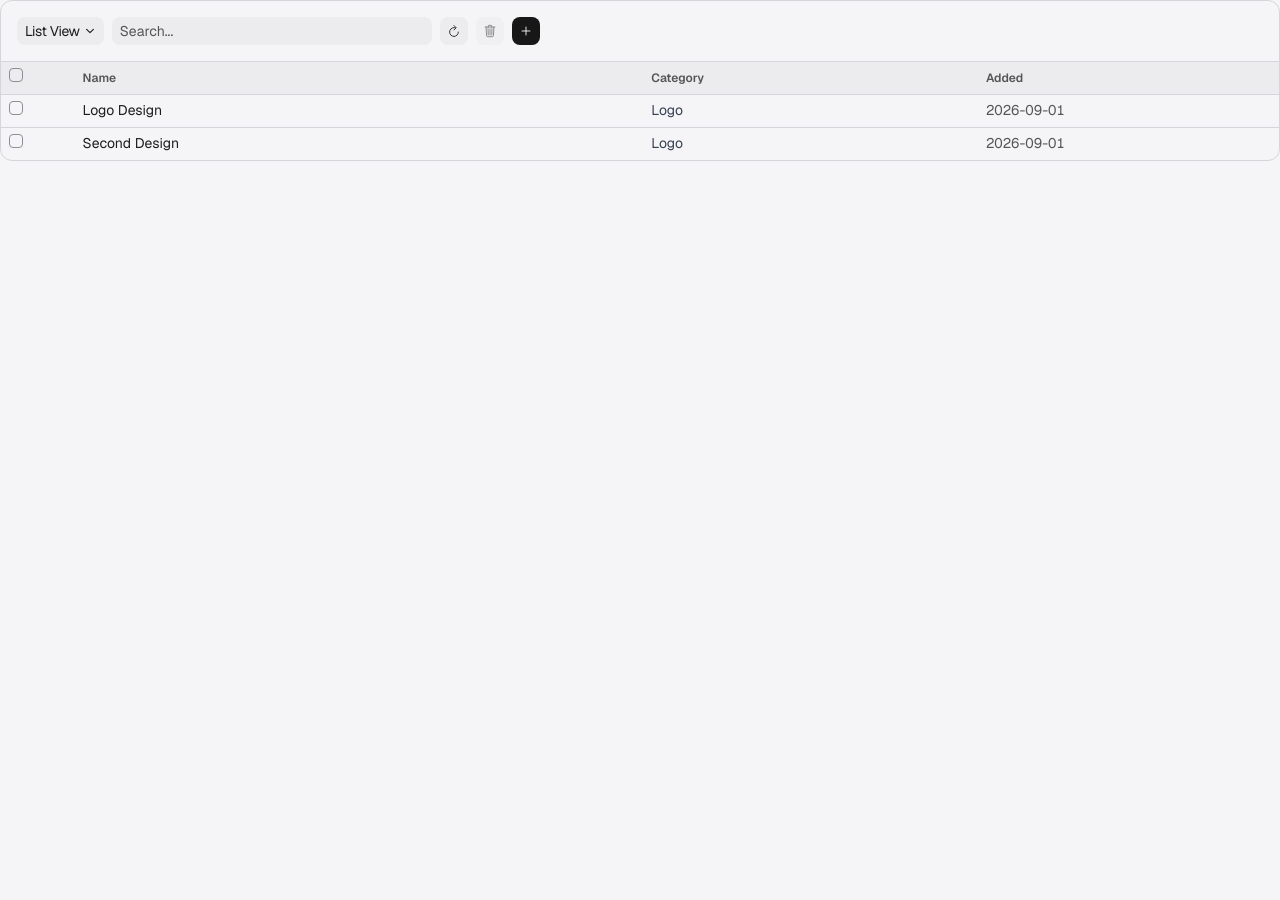
Test case: DesignRepository — deleting ticked designs › deletes each ticked design and closes the dialog
The width and height of the screenshot is (1280, 900).
Step 1. Click the checkbox named "Select Logo Design" → point(16, 108), box [9,101,23,115]
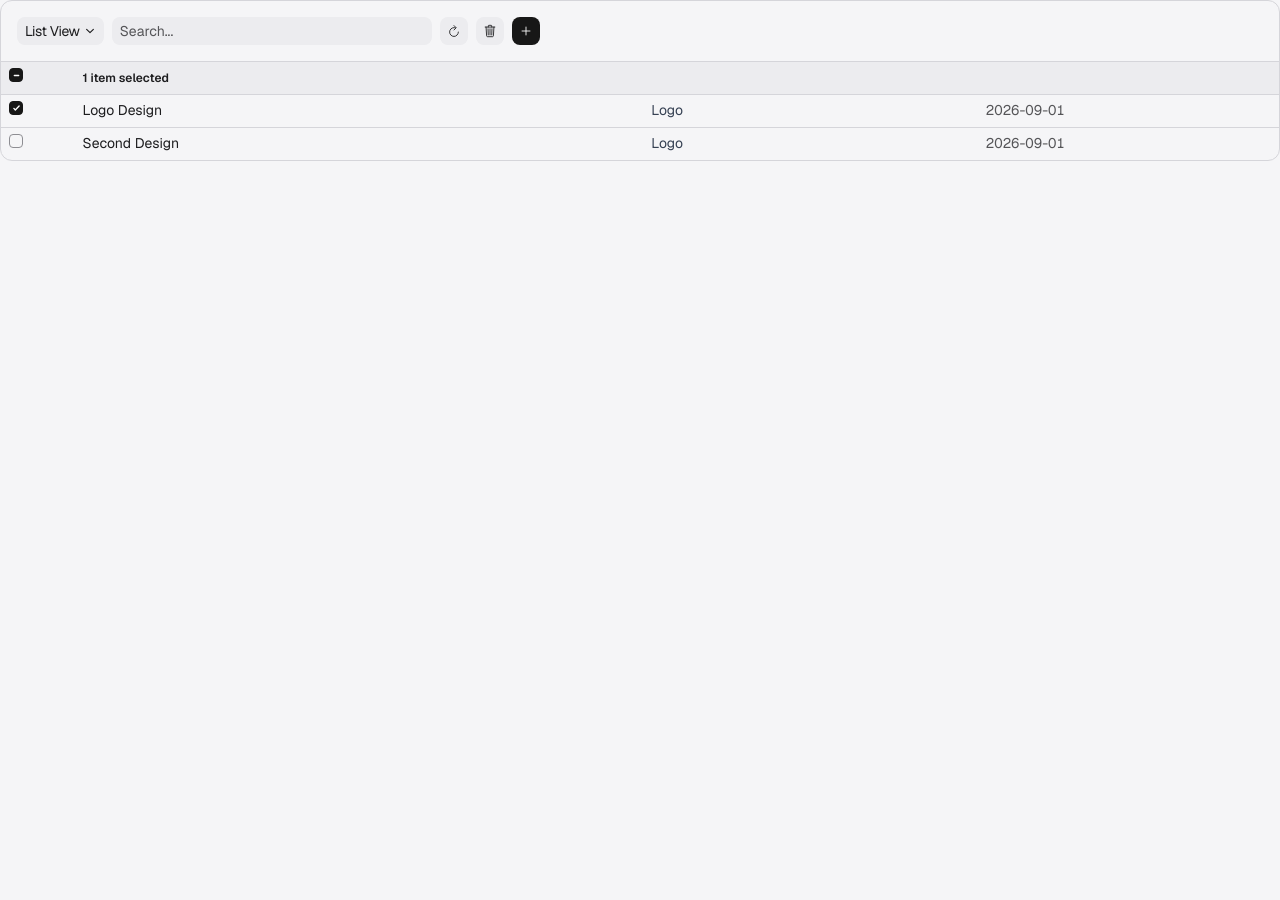
Step 2. Click the checkbox named "Select Second Design" → point(16, 141), box [9,134,23,148]
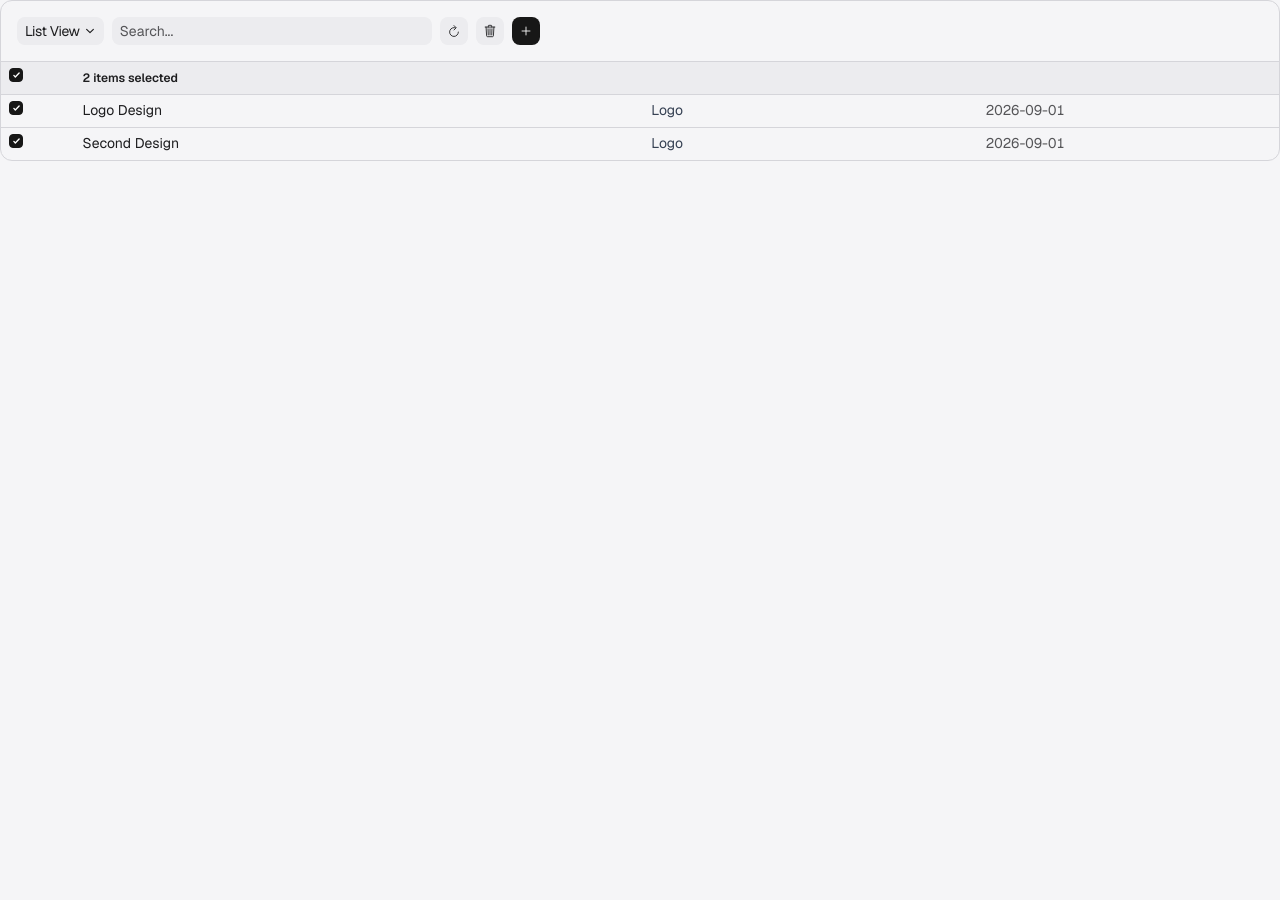
Step 3. Click the button named "Delete 2 selected designs" → point(490, 31), box [476,17,504,45]
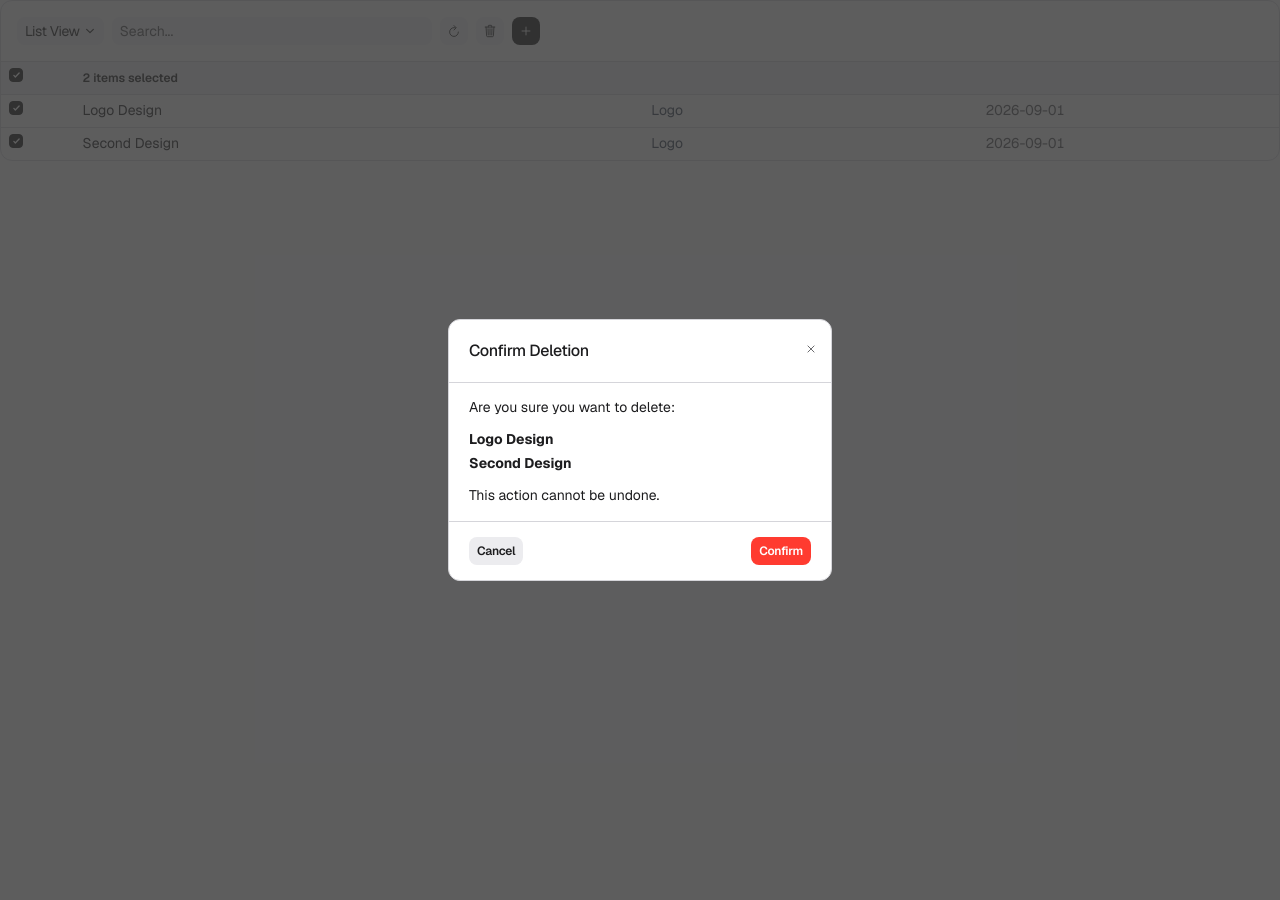
Step 4. Click the button "Confirm" → point(781, 551), box [751,537,811,565]
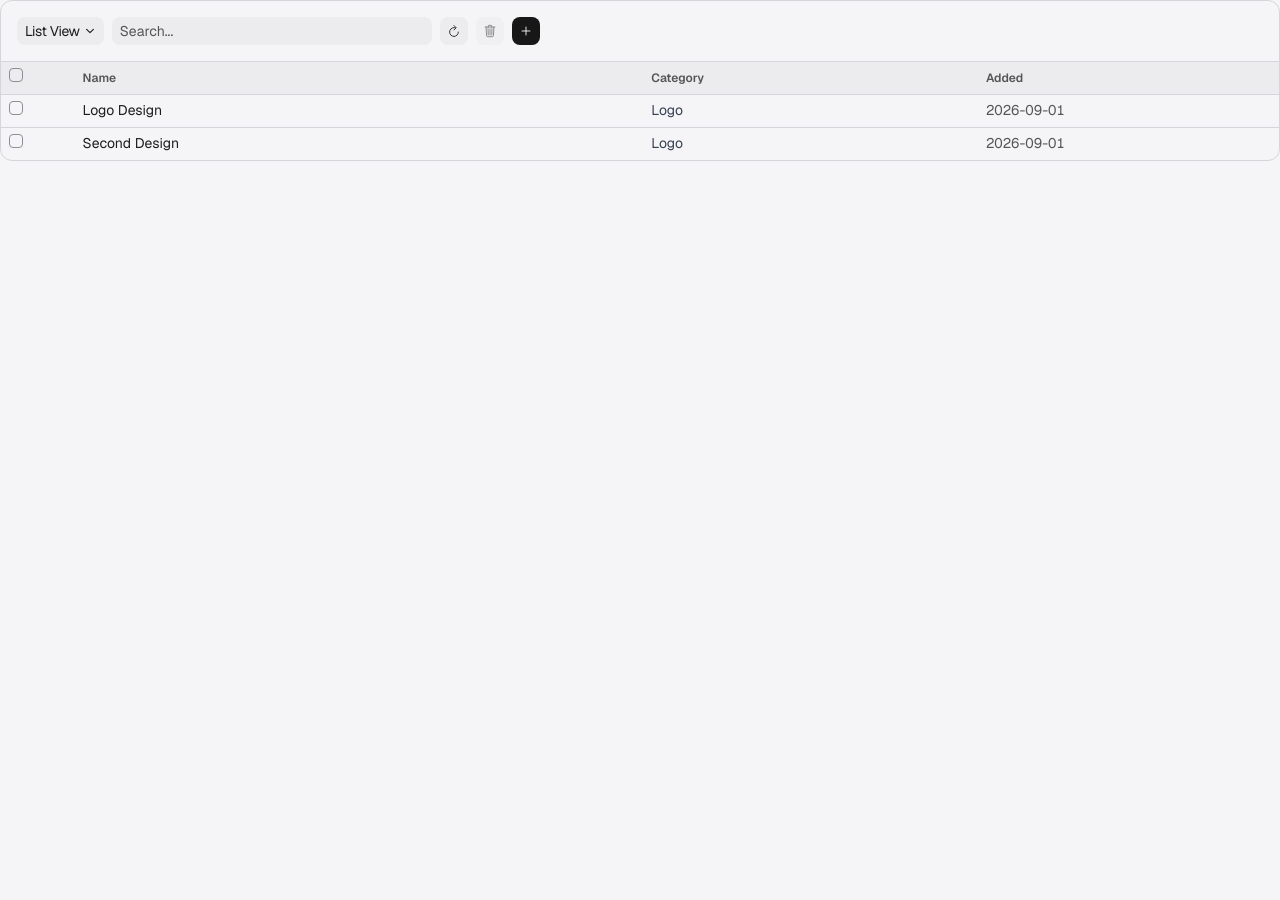
Check: the heading "Confirm Deletion" is gone
